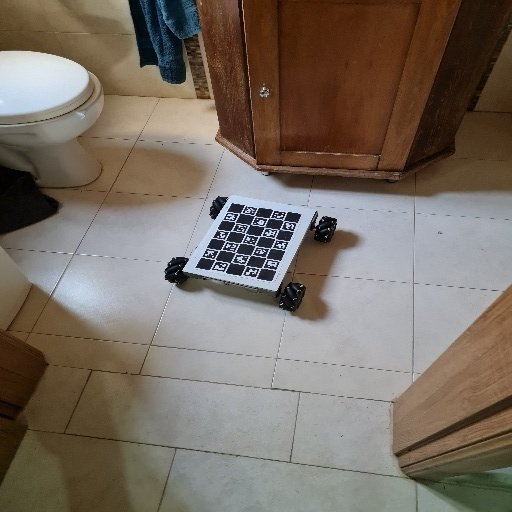Omniwheel: (163, 194, 339, 317)
